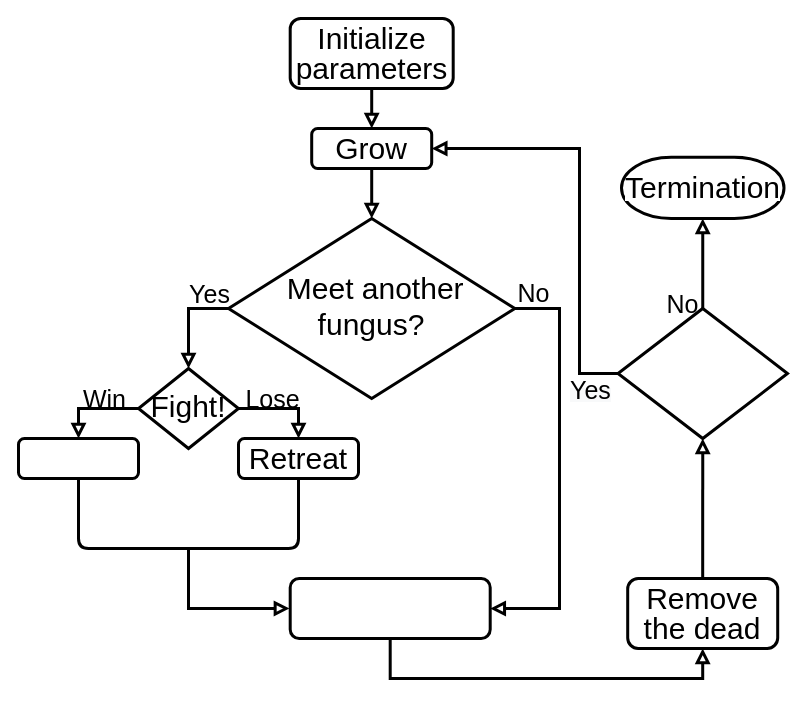
Image size: 806x707. Some labels were removed from this diagram. Each missing label, with the centre of its shape:
"Any alive?" belongs at (702,373).
"Decomposition" belongs at (389,608).
"Occupy" belongs at (78,458).
